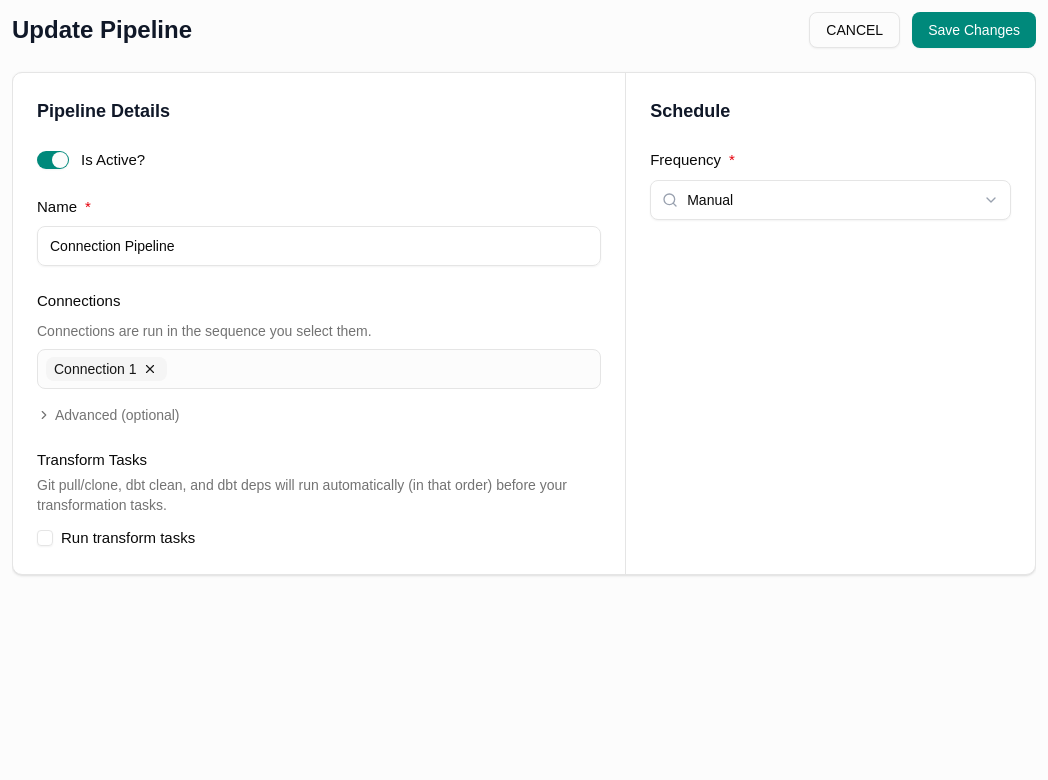
PipelineForm › prevents an existing pipeline from being saved after all work is removed
This screenshot has width=1048, height=780.
Check: the button with test id "submit-btn" is enabled, box x1=912 y1=12 x2=1036 y2=48
Click the button named "Remove Connection 1" at {"x": 150, "y": 368}, box x1=140 y1=360 x2=158 y2=378
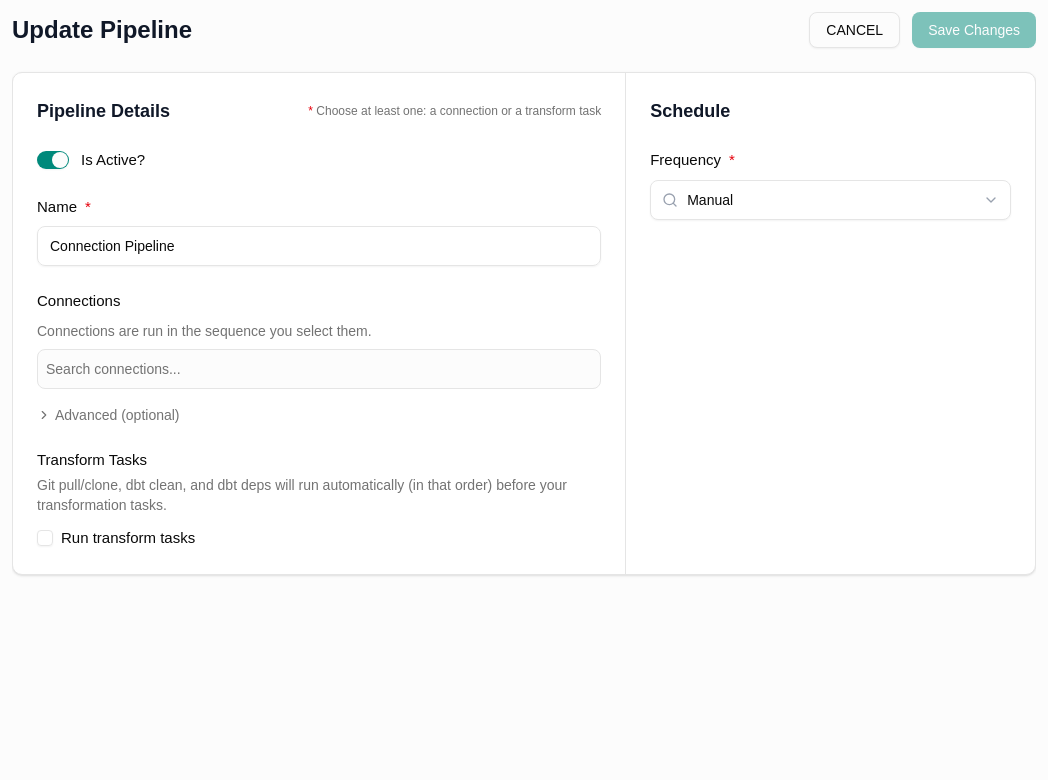
Check: the button with test id "submit-btn" is disabled, box x1=912 y1=12 x2=1036 y2=48
Check: the text "Choose at least one: a connection or a transform task" is shown, box x1=316 y1=104 x2=601 y2=118
Submit the form
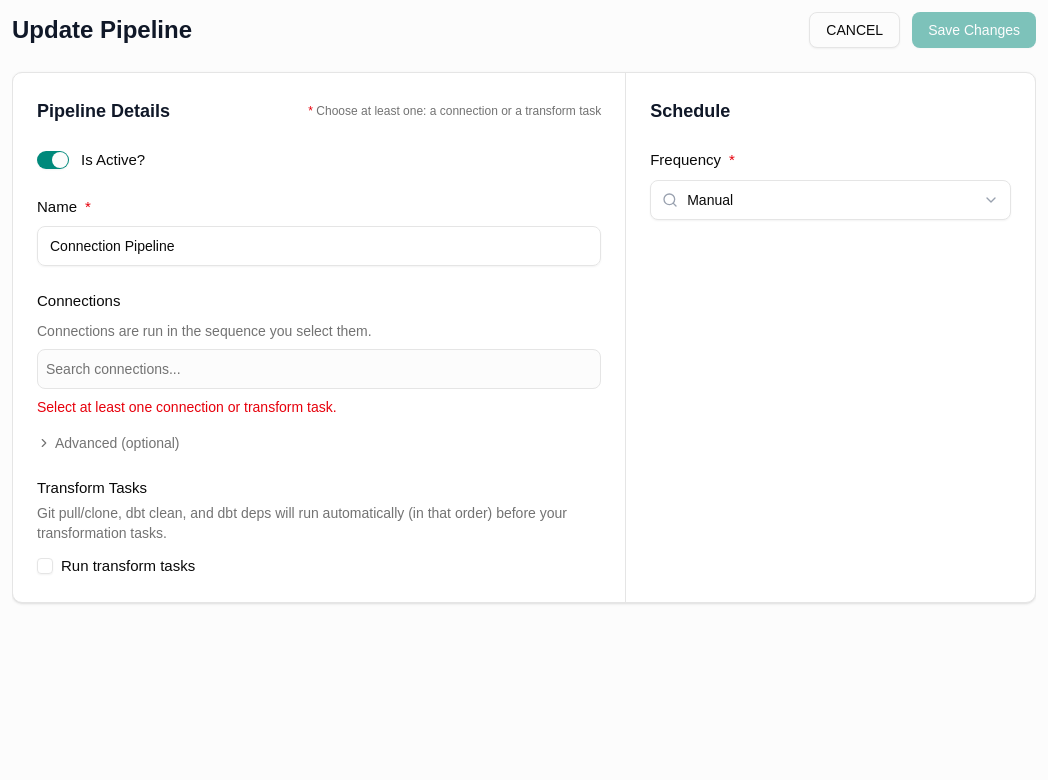
Check: the message reads "Select at least one connection or transform task.", box x1=37 y1=398 x2=337 y2=414
